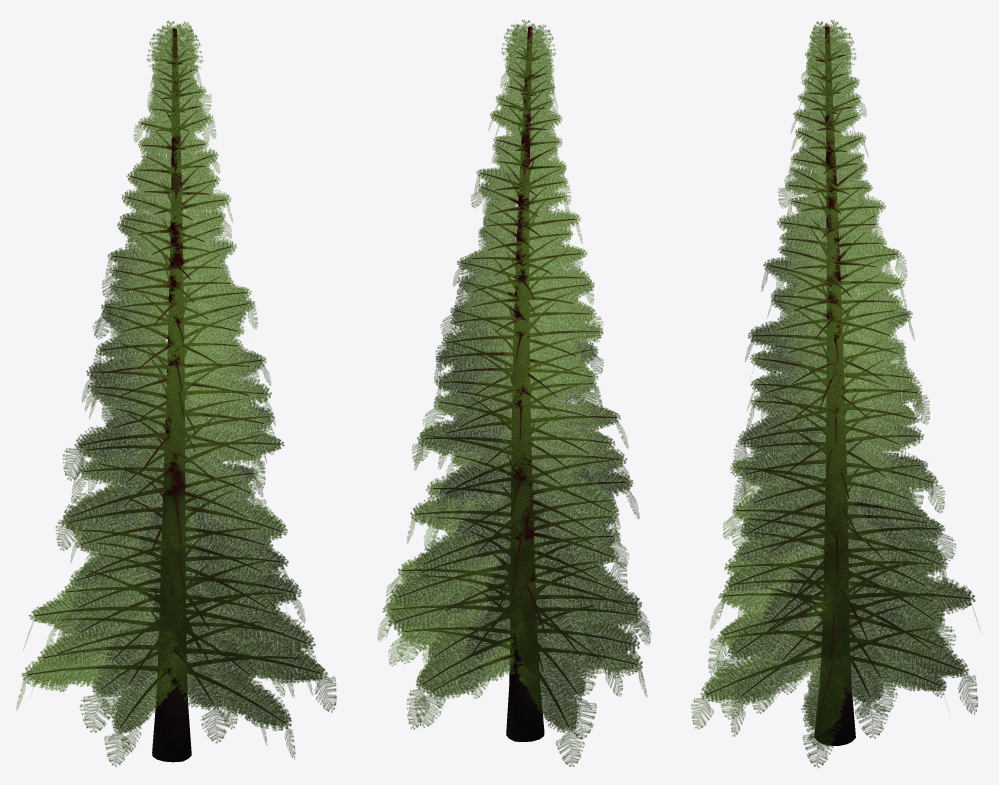
File: larch_sparse_v02.glb
3 renders of one model, left to right at view 1: azimuth 30°, elevation 25°; view 2: azimuth 150°, elevation 25°; view 3: azimuth 270°, elevation 25°, orthographic. The views are drawn at different scales.
Parts seen in each view (by area): view 1: larch_sparse_v02; view 2: larch_sparse_v02; view 3: larch_sparse_v02.
Boxes of the visible parts, bbox=[...] form: larch_sparse_v02: bbox=[16, 20, 336, 766]; larch_sparse_v02: bbox=[377, 19, 650, 766]; larch_sparse_v02: bbox=[691, 20, 979, 767].
Bounding box in the file's own units: 6.25 × 17.21 × 6.5.
Materials: 2 (2 with a texture image).
